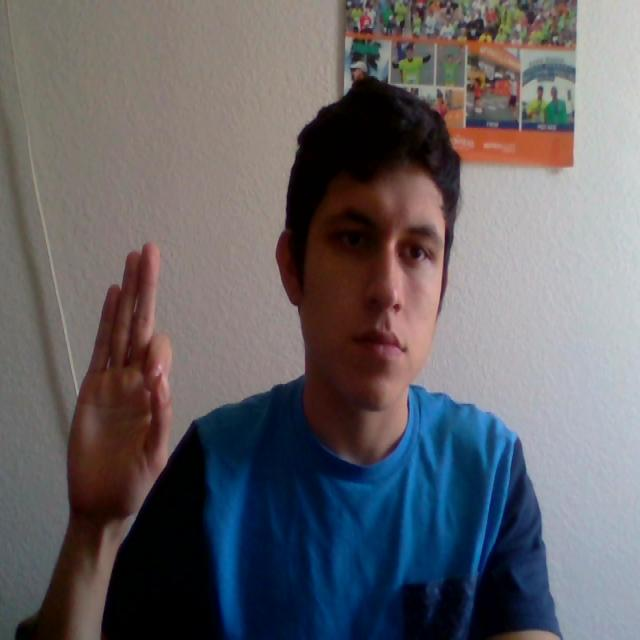F: (58, 204, 235, 574)
